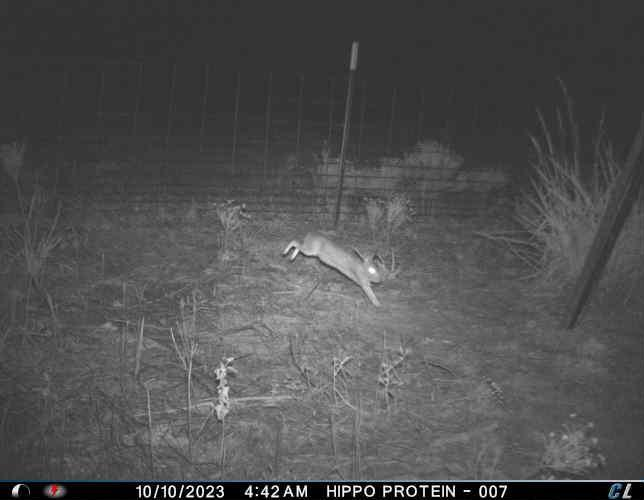Rabbit: (281, 226, 384, 307)
